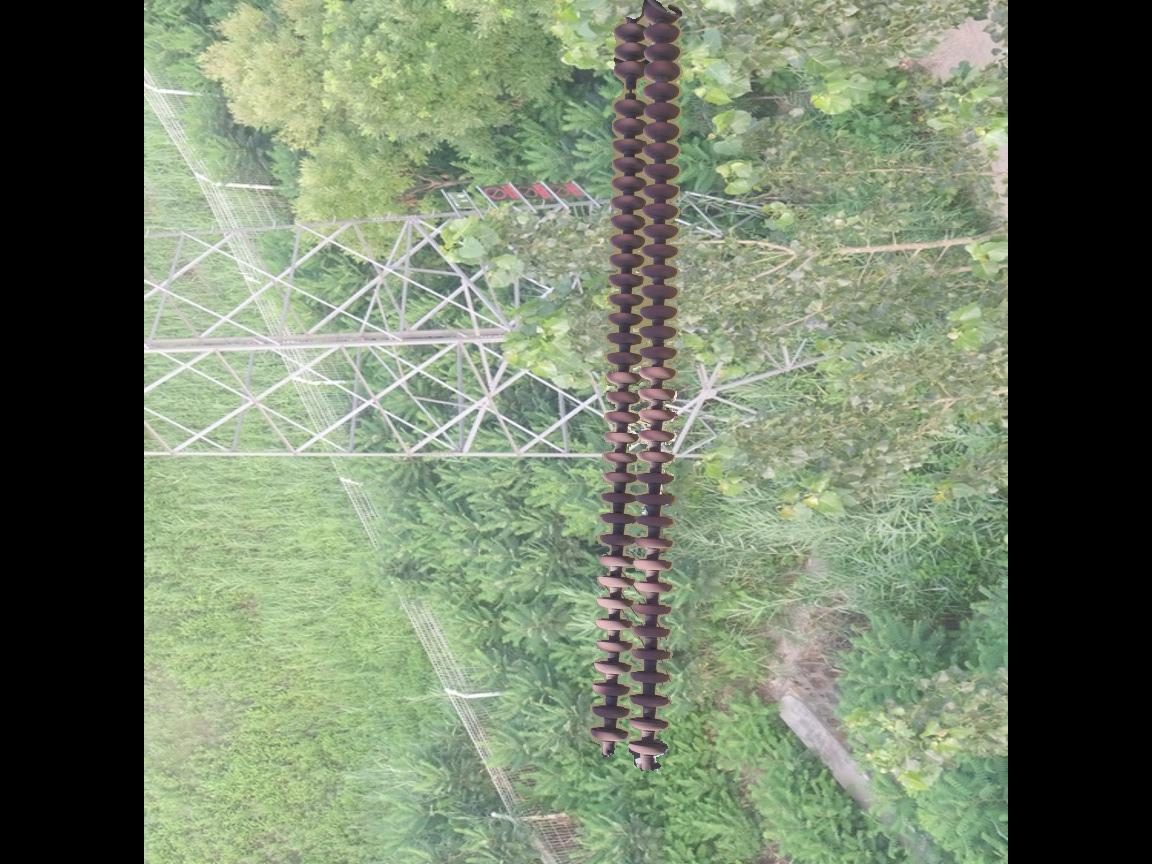insulator: (586, 1, 683, 774)
insulator_stringdrop: (609, 58, 648, 118)
